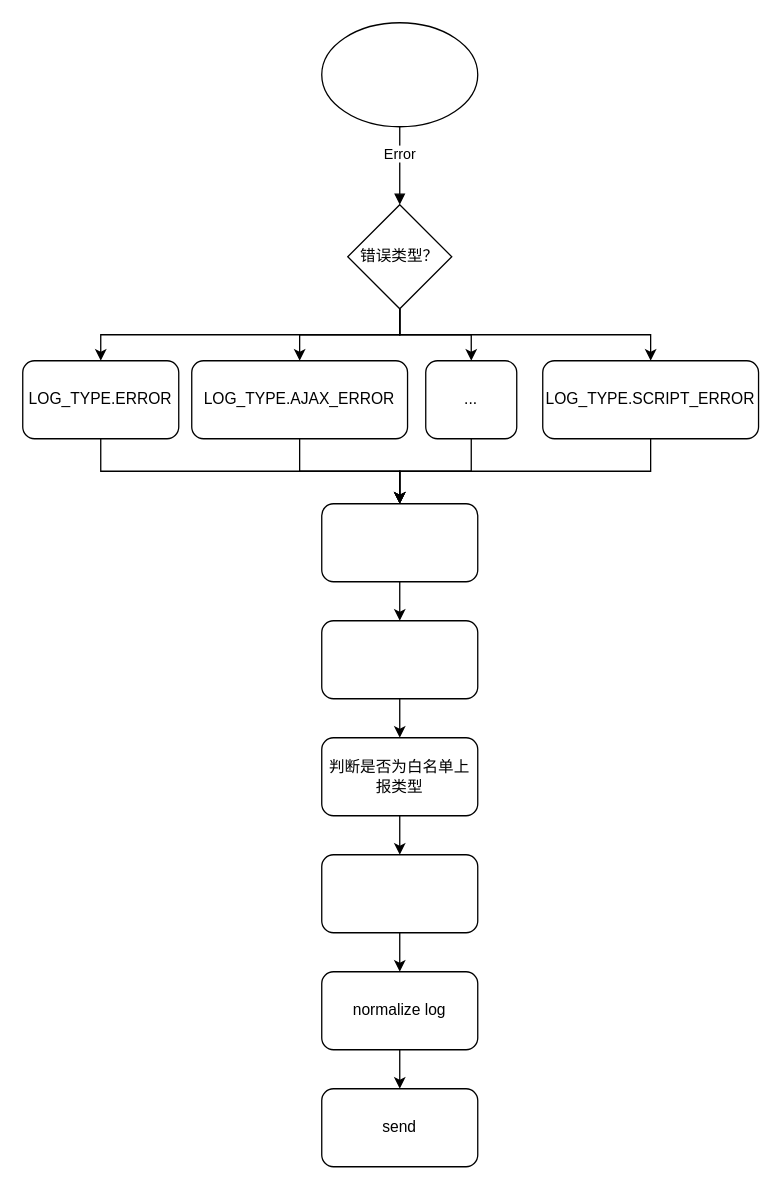
Some shapes in this 781 by 1190 pixel diagram are drawn without their labels. Each missing label, with the centre of its shape:
html文档: point (399, 74)
处理自定义上报拦截以及回调钩子: point (399, 893)
节流管道处理函数: point (399, 659)
识别标记为不同的错误日志: point (399, 542)
